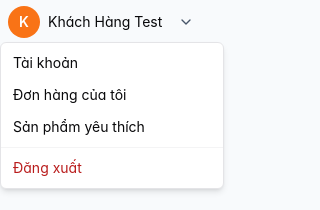
Test: user menu interactions › opens on hover and closes after the cursor leaves
This screenshot has width=320, height=210.
Hover over the link "K Khách Hàng Test" at coordinates (85, 22), box 0,0 -> 170,44
expect the menu item "Tài khoản" is shown: met, box 13,54 -> 78,71
Move the pointer off the link "K Khách Hàng Test", box 0,0 -> 170,44
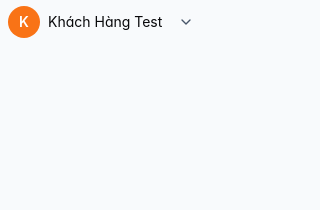
expect the menu item "Tài khoản" is gone: met
